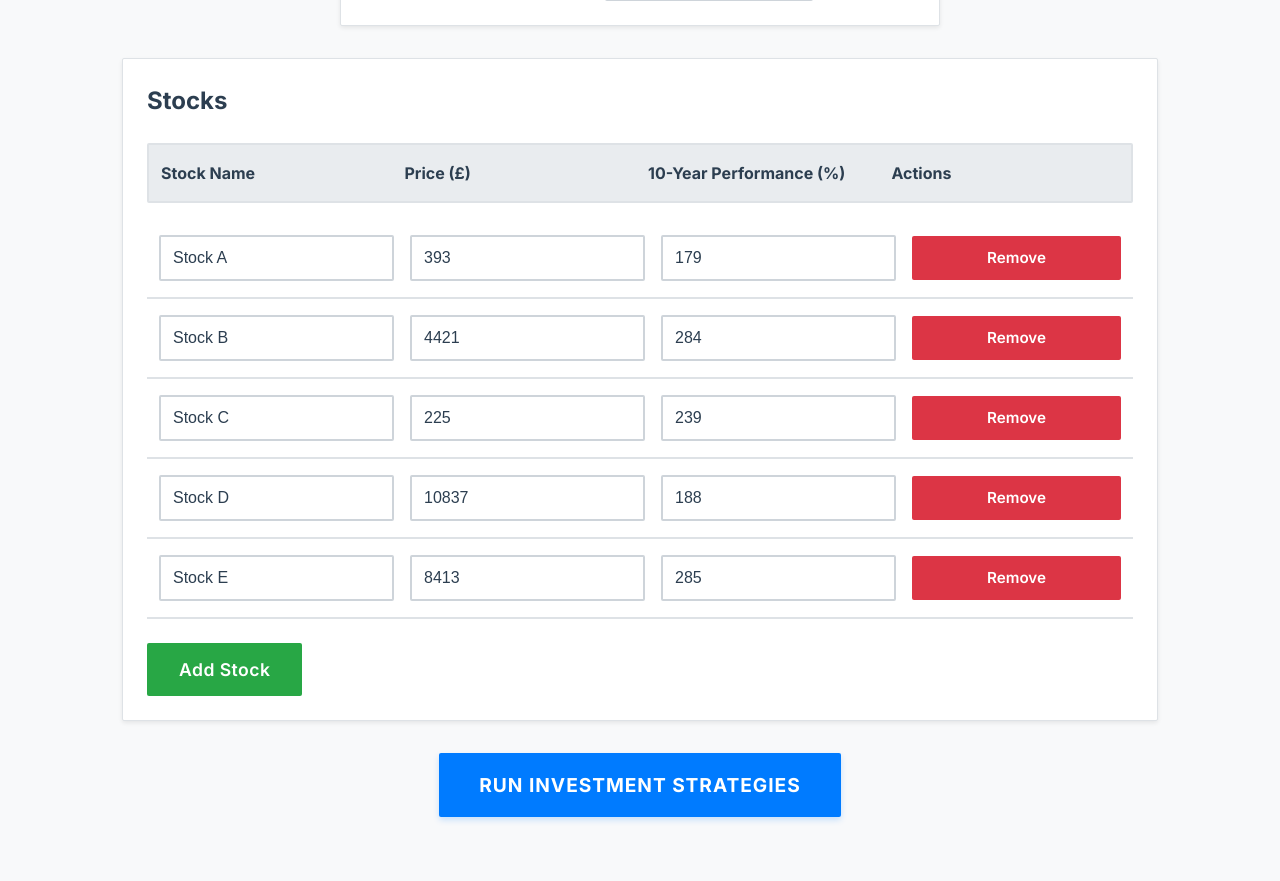
Test: PortfolioOptimizer › displays results after successful optimization
(page scrolled)
Click the button "Run Investment Strategies": click(640, 785) [439,753,841,817]
(page scrolled)
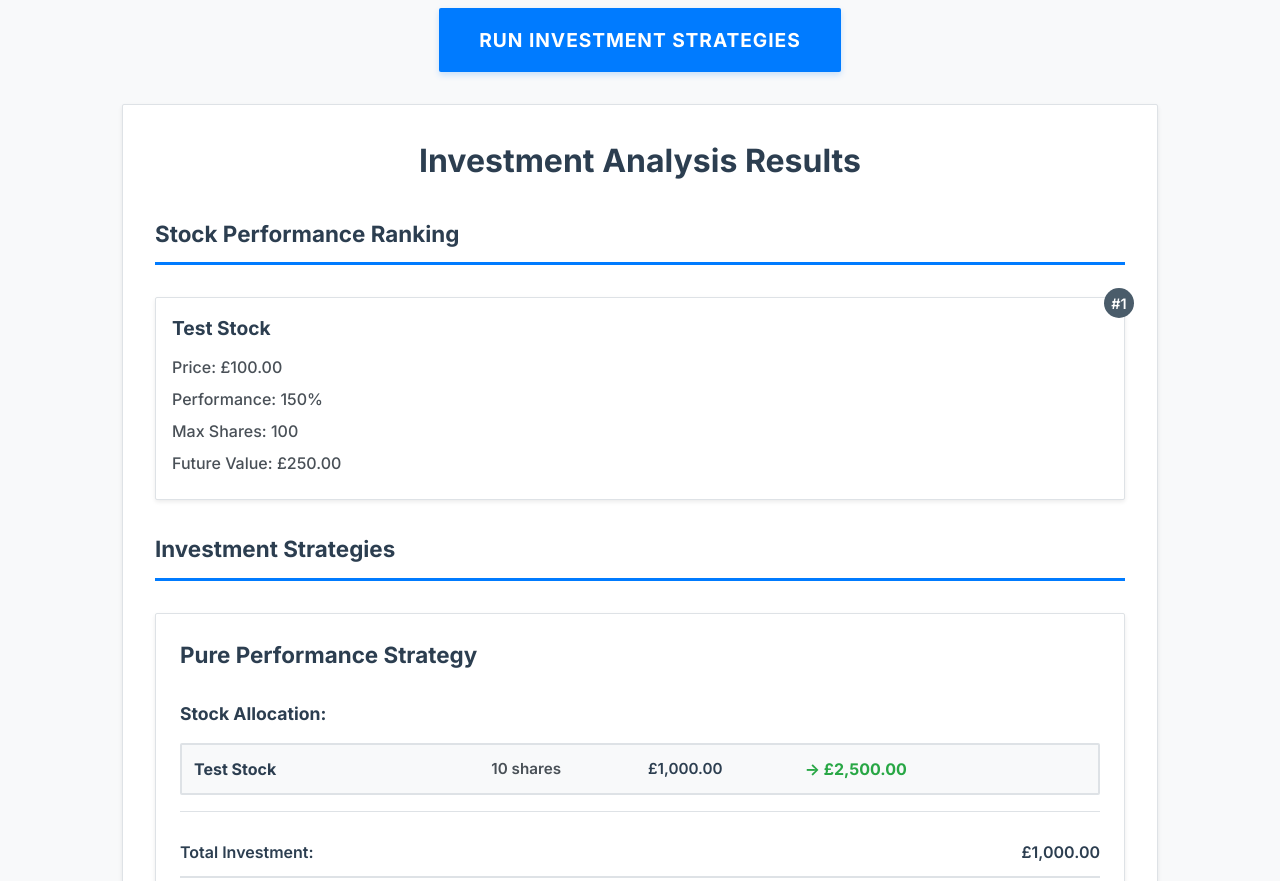
expect the heading "Investment Analysis Results" is shown: met, box [419,141,861,180]
expect the heading "Stock Performance Ranking" is shown: met, box [155,217,1125,265]
expect the text "#1" is shown: met, box [1104,288,1134,318]
